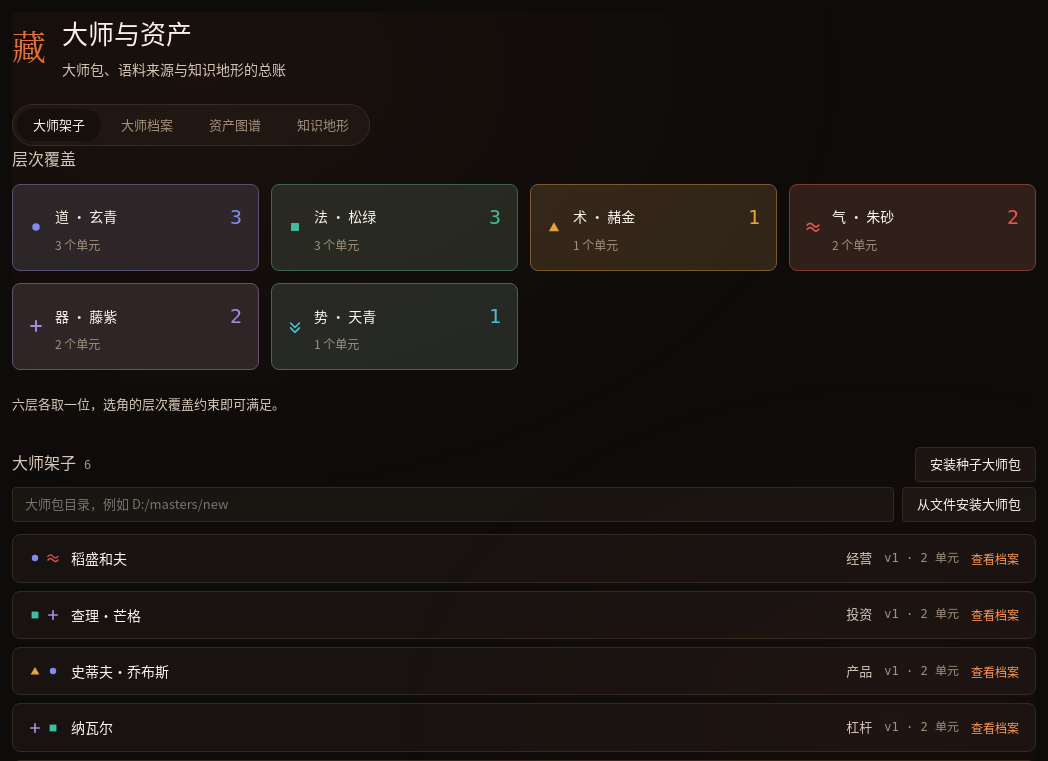
it: 藏境界 · 大师档案 › 六题档案列出六题，空缺题保留并标注
What coordinates should you click on to do the following:
click the button "稻盛和夫 经营 v1 · 2 单元 查看档案"
I would click on:
 (99, 558)
Its box is [13,535,1035,582].
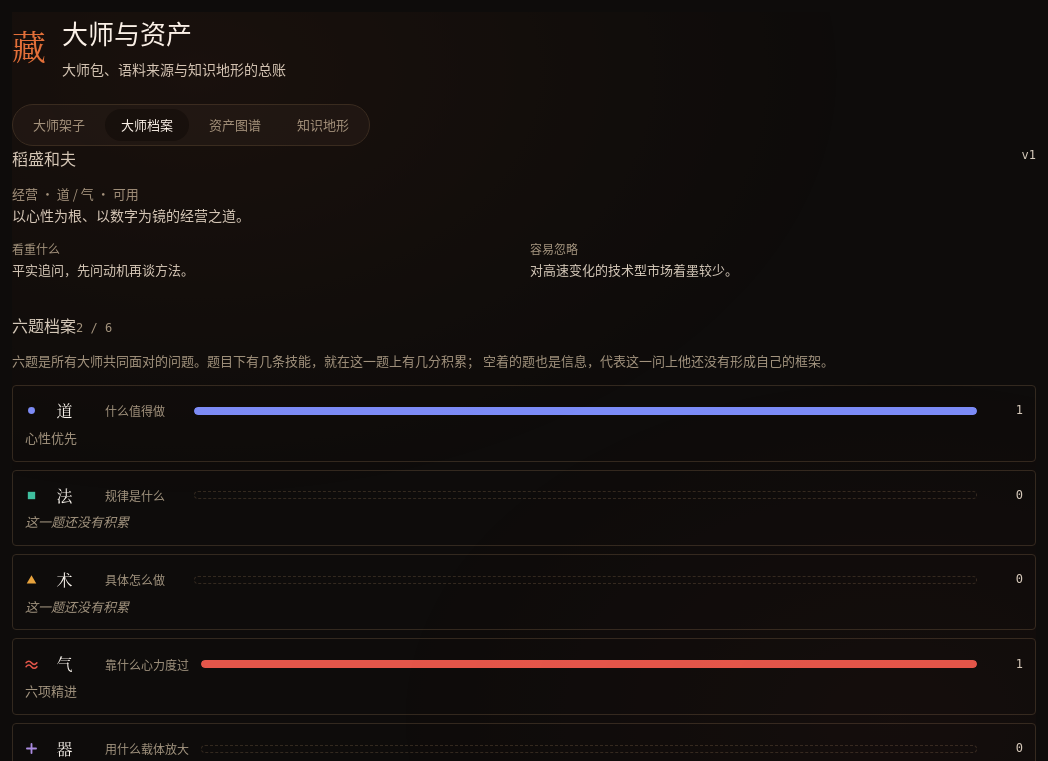
Expected: the heading "六题档案2 / 6" is shown, [12,313,112,337]
Expected: the text "什么值得做" is shown, [105,402,165,419]
Expected: the text "规律是什么" is shown, [105,487,165,504]
